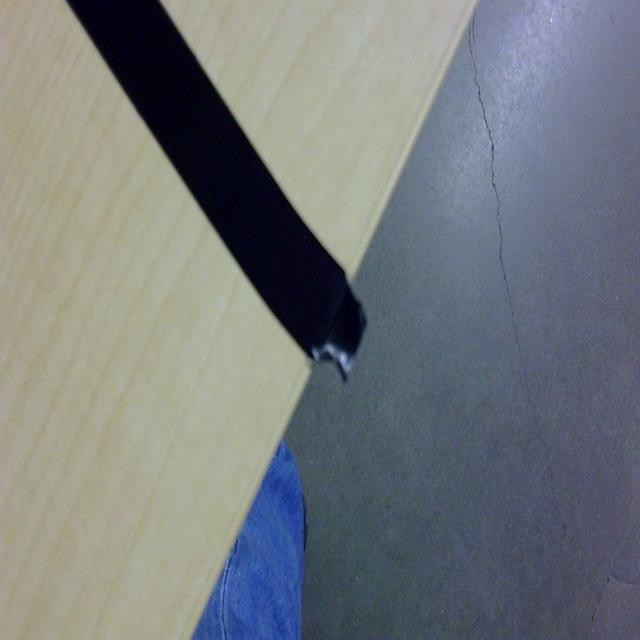tape: (35, 0, 390, 417)
